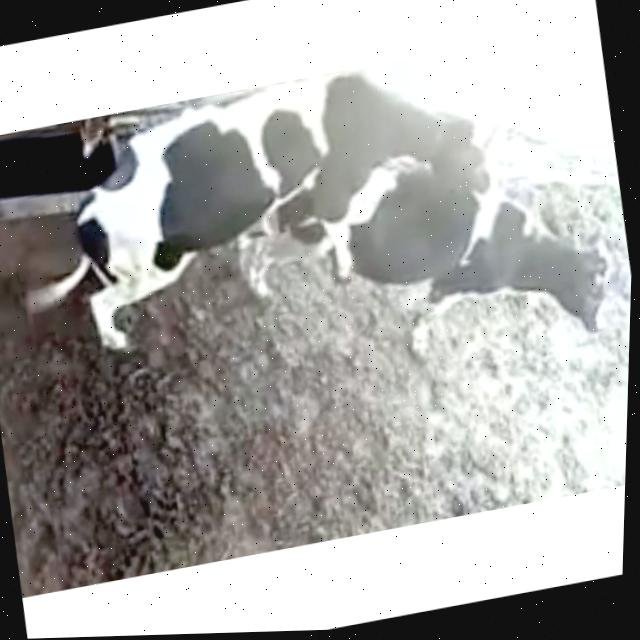ride: (28, 45, 520, 373)
